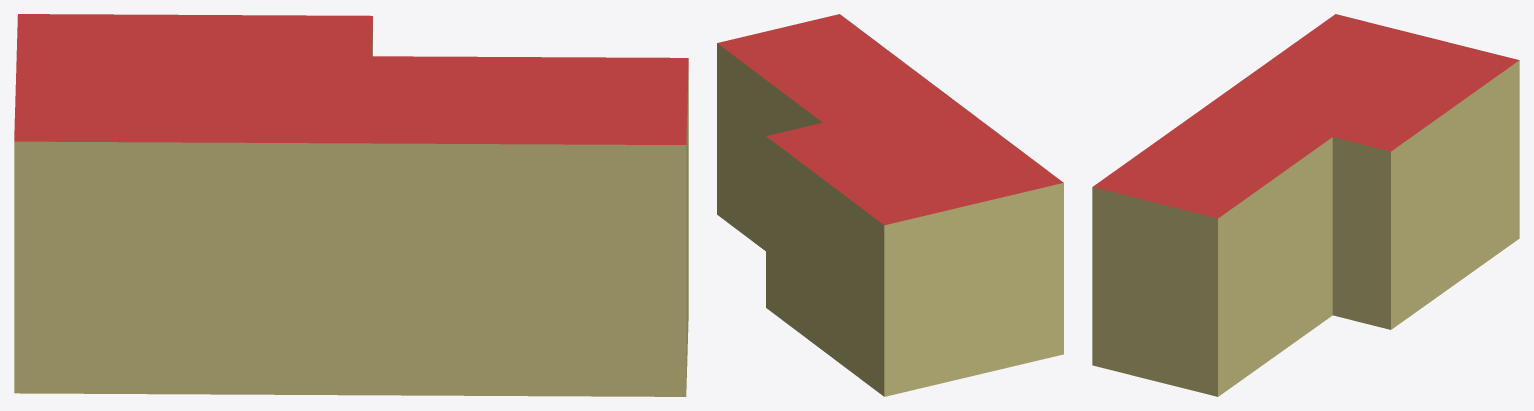
The picture shows the model from 3 angles, left to right: view 1: azimuth 30°, elevation 25°; view 2: azimuth 150°, elevation 25°; view 3: azimuth 270°, elevation 25°; orthographic projection. The views are drawn at different scales.
Visible parts, largest first — view 1: group_4, group_3; view 2: group_4, group_3; view 3: group_4, group_3.
Part boxes in pixels (box(x1,y1,x2,y2)): group_4: box(14, 23, 688, 396); group_3: box(14, 14, 688, 144); group_4: box(717, 43, 1063, 396); group_3: box(717, 14, 1063, 225); group_4: box(1092, 60, 1519, 396); group_3: box(1093, 14, 1519, 218).
Size of the model in its own units: 13.9 by 12.26 by 5.65.
